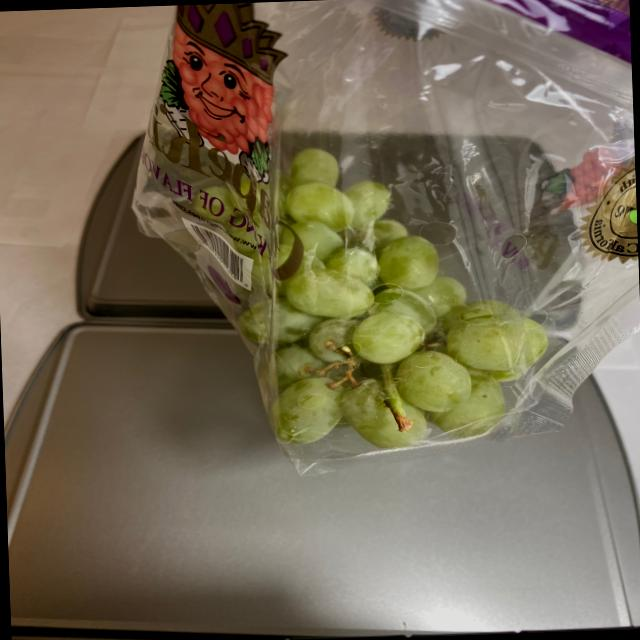grapes: (173, 132, 548, 453)
